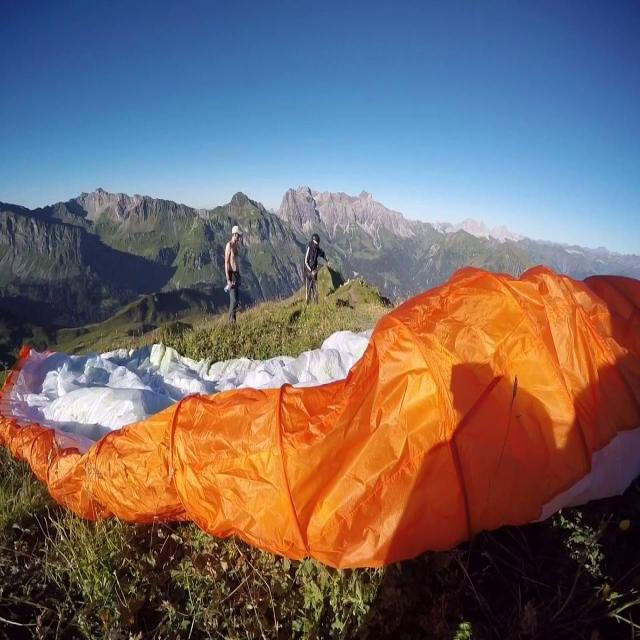paraglider: (1, 262, 639, 571)
